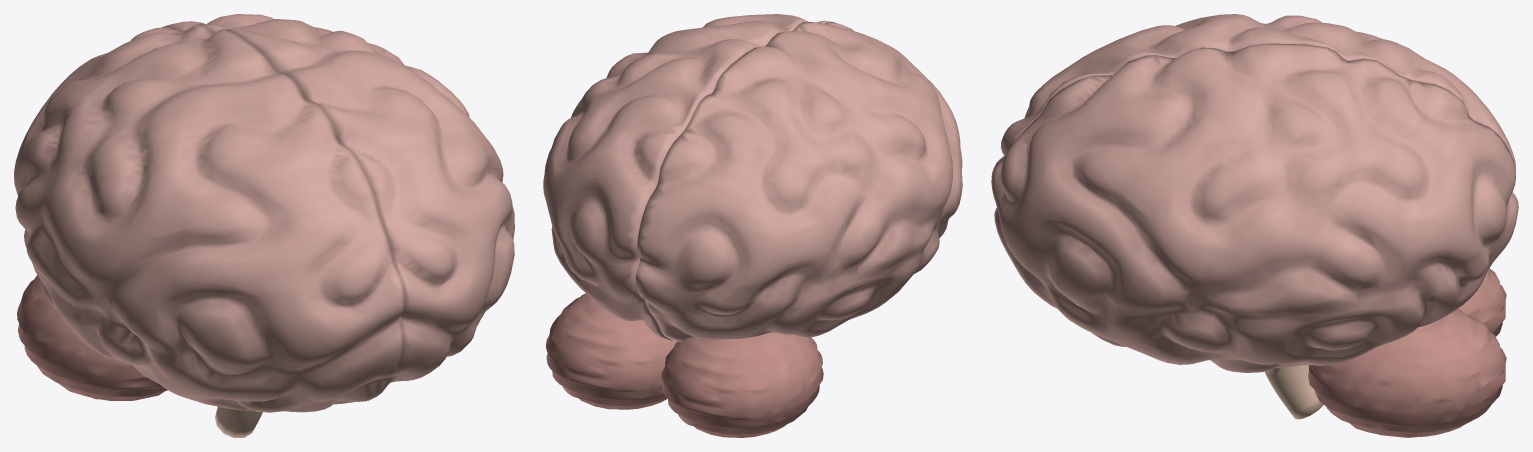
The model's file is brain.glb.
3 renders of one model, left to right at view 1: azimuth 30°, elevation 25°; view 2: azimuth 150°, elevation 25°; view 3: azimuth 270°, elevation 25°, orthographic. The views are drawn at different scales.
Visible parts, largest first — view 1: Left cerebral hemisphere with sculpted gyri, Right cerebral hemisphere with sculpted gyri, Left cerebellar hemisphere with folia, Pons and medulla brainstem; view 2: Left cerebral hemisphere with sculpted gyri, Right cerebral hemisphere with sculpted gyri, Left cerebellar hemisphere with folia, Right cerebellar hemisphere with folia; view 3: Right cerebral hemisphere with sculpted gyri, Right cerebellar hemisphere with folia, Left cerebral hemisphere with sculpted gyri, Pons and medulla brainstem, Left cerebellar hemisphere with folia.
Boxes of the visible parts, bbox=[...] form: Left cerebral hemisphere with sculpted gyri: bbox=[14, 24, 403, 412]; Right cerebral hemisphere with sculpted gyri: bbox=[162, 14, 514, 404]; Left cerebellar hemisphere with folia: bbox=[17, 275, 167, 400]; Pons and medulla brainstem: bbox=[215, 406, 262, 437]; Left cerebral hemisphere with sculpted gyri: bbox=[636, 22, 962, 341]; Right cerebral hemisphere with sculpted gyri: bbox=[543, 14, 831, 340]; Left cerebellar hemisphere with folia: bbox=[661, 332, 823, 437]; Right cerebellar hemisphere with folia: bbox=[545, 293, 676, 409]; Right cerebral hemisphere with sculpted gyri: bbox=[991, 43, 1518, 372]; Right cerebellar hemisphere with folia: bbox=[1308, 308, 1506, 437]; Left cerebral hemisphere with sculpted gyri: bbox=[991, 14, 1518, 214]; Pons and medulla brainstem: bbox=[1264, 365, 1323, 419]; Left cerebellar hemisphere with folia: bbox=[1458, 268, 1506, 336].
Bounding box in the file's own units: 0.1367 × 0.1276 × 0.1627.
Materials: 3 (3 with a texture image).
